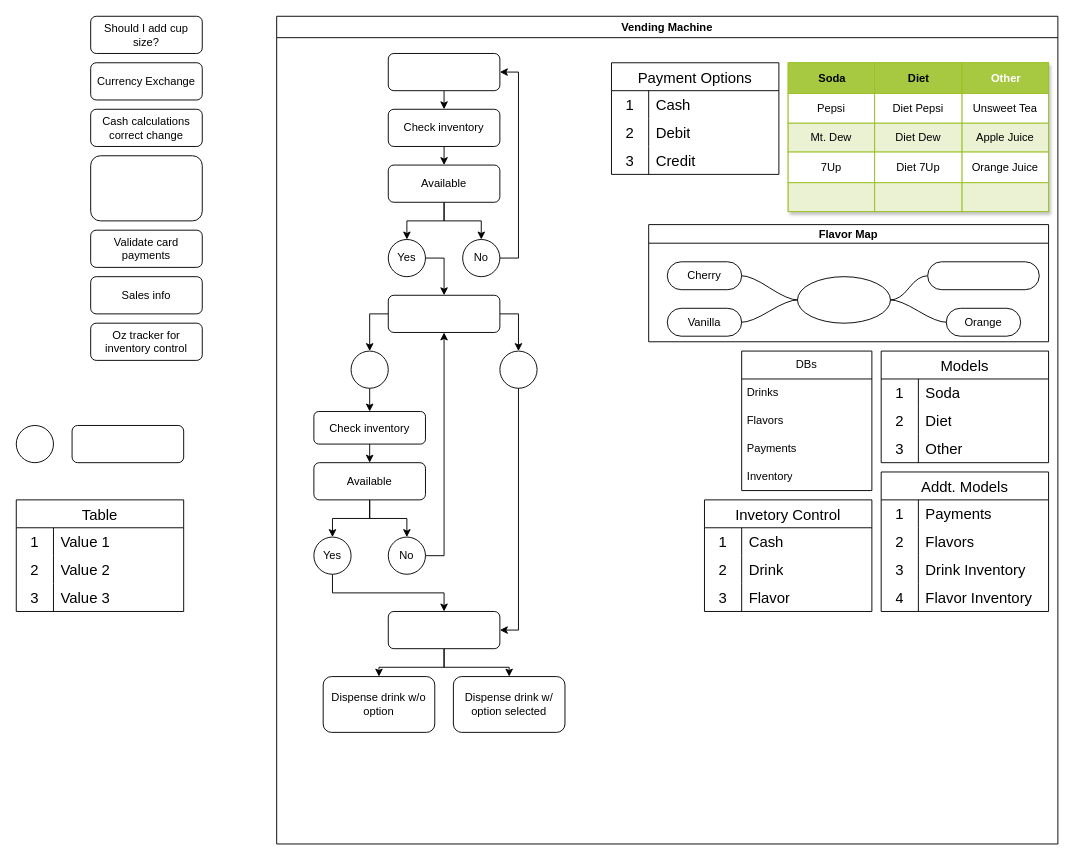
This 1074x860 diagram has some shape labels left out. Each missing label, with the centre of its shape:
"Cherry Vanilla" belongs at point 983,275.
"Make payment" belongs at point 443,630.
"Select drink add-on flavor" belongs at point 443,313.
"Select drink option" belongs at point 443,72.
"Soda Flavors - additional" belongs at point 843,299.
"Temp sensors notifications Tilt sensor Drink door Sensor" belongs at point 146,188.
"W/O" belongs at point 518,369.
"With" belongs at point 369,369.
